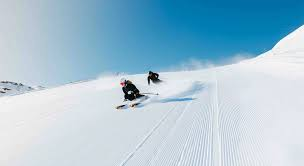skis: (116, 96, 150, 112)
